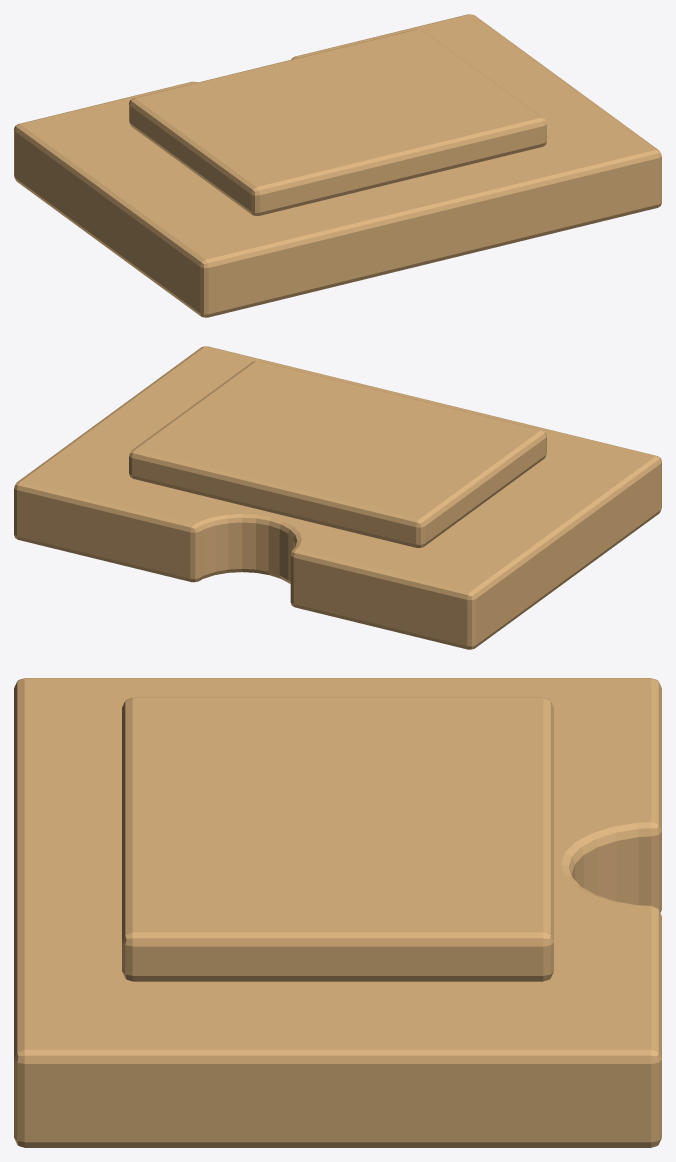
File: VCell_TerminalNegative.glb
3 views of the same model, one above another, from view 1: azimuth 30°, elevation 25°; view 2: azimuth 150°, elevation 25°; view 3: azimuth 270°, elevation 25° (orthographic). The views are drawn at different scales.
Parts seen in each view (by area): view 1: VCell_TerminalNegative; view 2: VCell_TerminalNegative; view 3: VCell_TerminalNegative.
Boxes of the visible parts, x1,y1,x2,y2 form: VCell_TerminalNegative: [14, 14, 661, 317]; VCell_TerminalNegative: [14, 346, 661, 649]; VCell_TerminalNegative: [14, 678, 661, 1147].
Bounding box in the file's own units: 0.025 × 0.0045 × 0.018.
